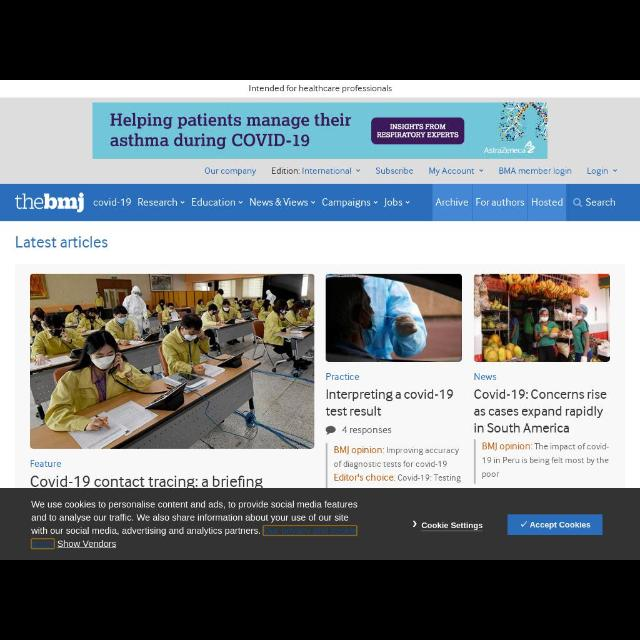icon: (573, 198, 583, 208), (326, 426, 336, 434), (412, 520, 418, 528), (521, 522, 527, 526), (374, 202, 378, 204), (311, 202, 315, 204), (239, 202, 243, 204), (181, 202, 185, 204), (479, 169, 483, 171), (613, 170, 617, 172), (357, 170, 361, 172), (406, 202, 408, 204)
iframe: (93, 102, 547, 160)
image: (31, 274, 316, 448), (473, 274, 611, 362), (326, 274, 462, 362), (15, 193, 84, 213)
input: (567, 184, 639, 220)
multitab: (206, 166, 620, 176)
spinner: (271, 167, 361, 176), (249, 198, 315, 208), (322, 198, 378, 208), (137, 198, 185, 208), (430, 168, 484, 176), (191, 198, 243, 206), (588, 167, 618, 176), (383, 198, 409, 206)
text: (31, 502, 357, 548), (474, 390, 606, 434), (333, 445, 461, 483), (480, 442, 610, 478), (326, 389, 454, 416), (31, 476, 263, 488), (17, 236, 108, 248), (248, 86, 392, 92), (272, 167, 352, 175), (500, 167, 572, 175), (322, 198, 370, 208), (530, 522, 590, 530), (422, 522, 482, 530), (250, 198, 308, 206), (138, 197, 178, 207), (206, 168, 256, 176), (343, 427, 392, 435), (476, 198, 524, 206), (191, 198, 237, 206), (430, 168, 474, 176), (376, 167, 414, 175), (95, 198, 132, 206), (436, 198, 468, 206), (30, 460, 61, 468), (532, 198, 562, 206), (586, 198, 616, 206), (326, 374, 358, 381), (383, 198, 402, 208), (588, 168, 608, 176), (474, 374, 496, 381)
textbutton: (508, 514, 604, 536)
toolbar: (1, 184, 640, 220)
